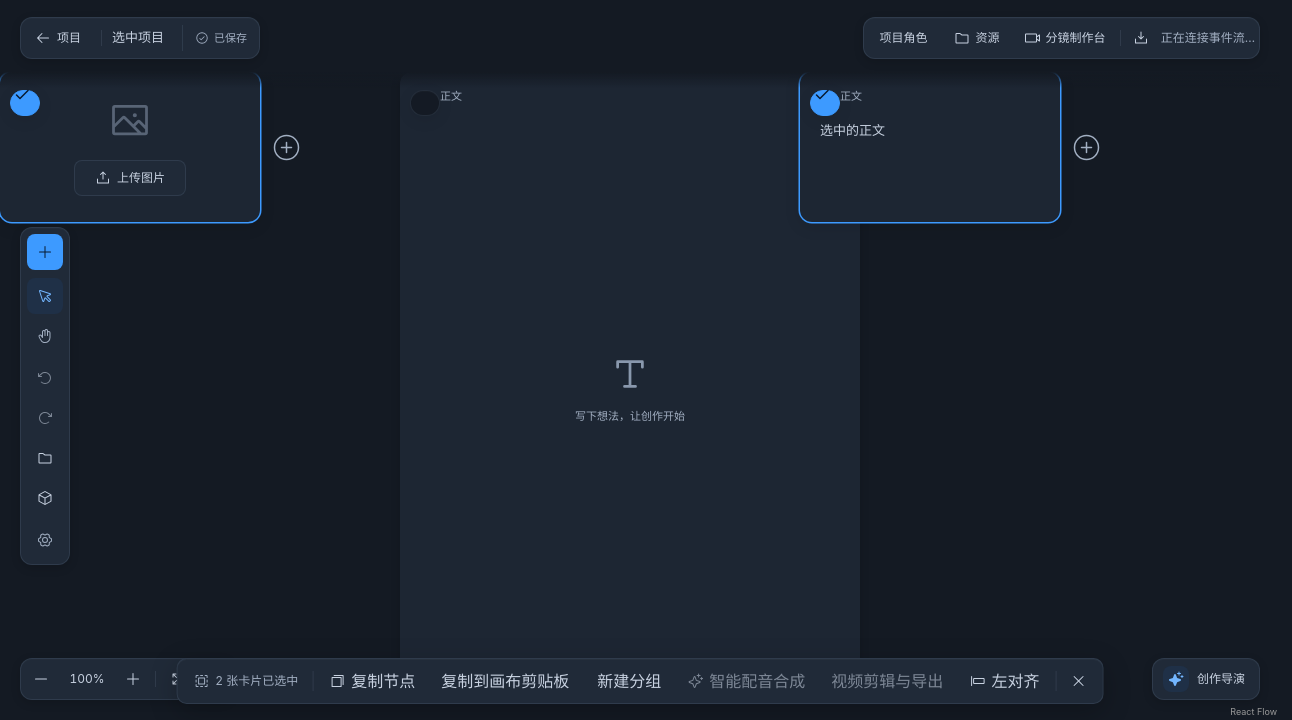
Test: canvas selection clearing › offers relevant bulk actions for any selected cards with a working close button
Expected: the text "2 张卡片已选中" is shown, [186,672,306,690]
Click the button "左对齐" at (1004, 681), box [959,665,1049,697]
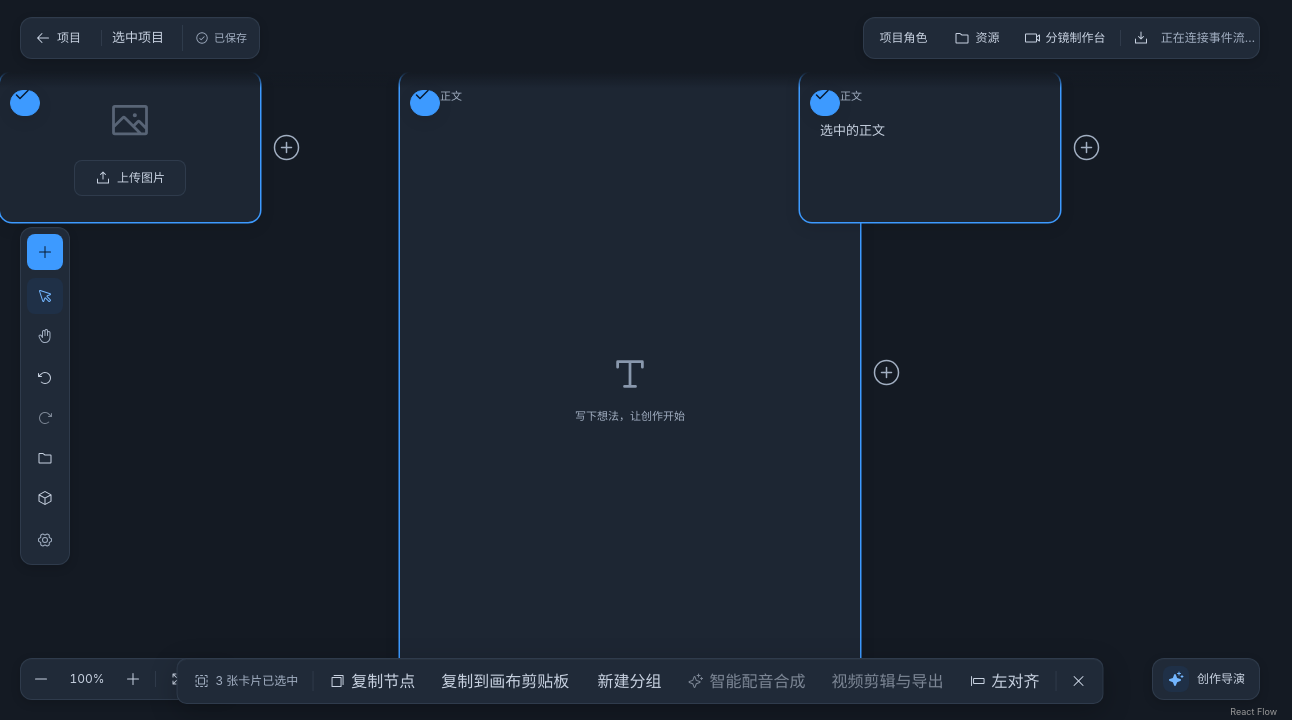
Click the button named "关闭编辑区" at (1078, 681), box [1062,665,1094,697]
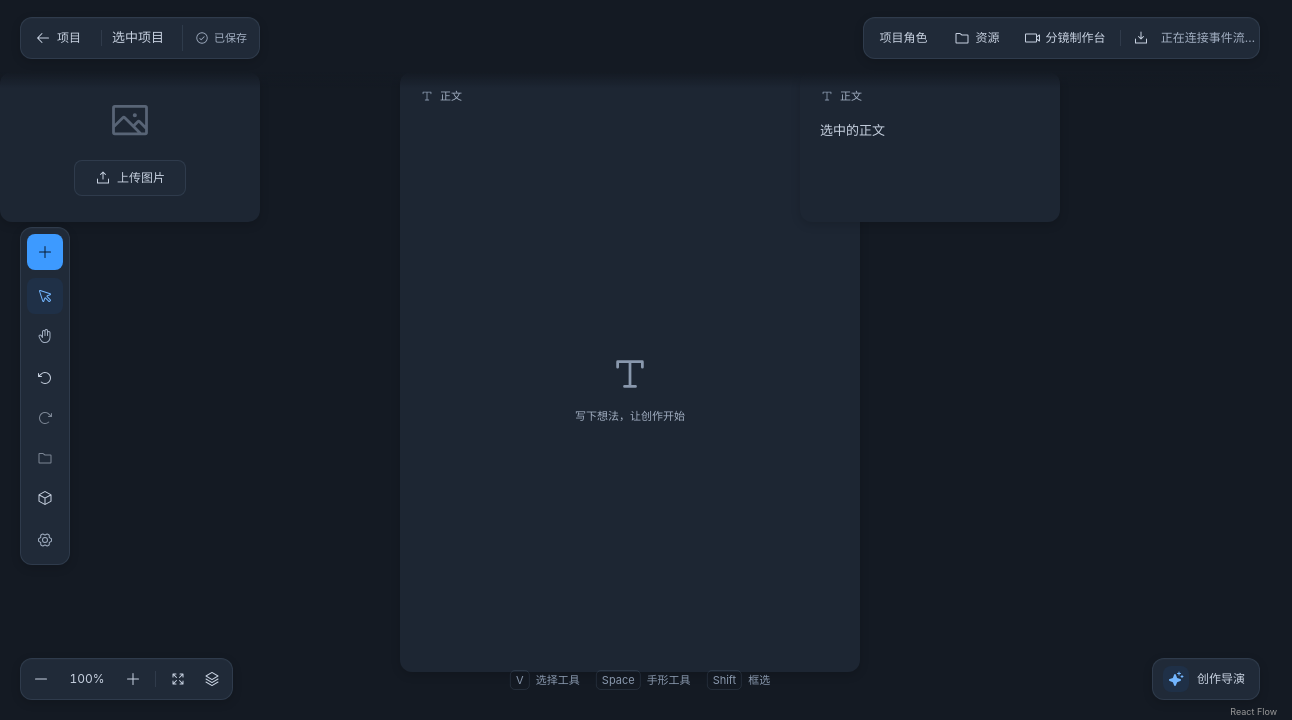
Expected: the element "批量操作" is gone
